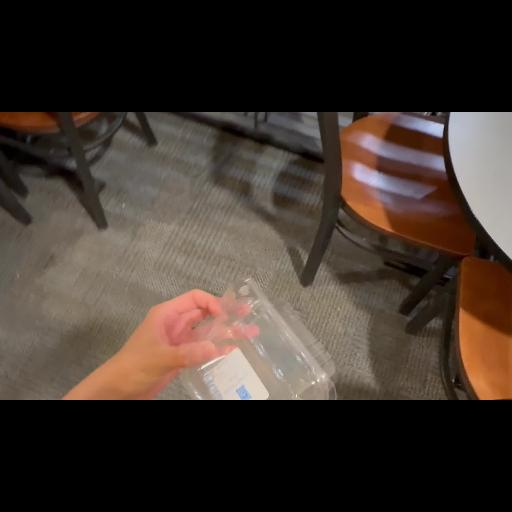small_plastic_container: (170, 272, 338, 400)
